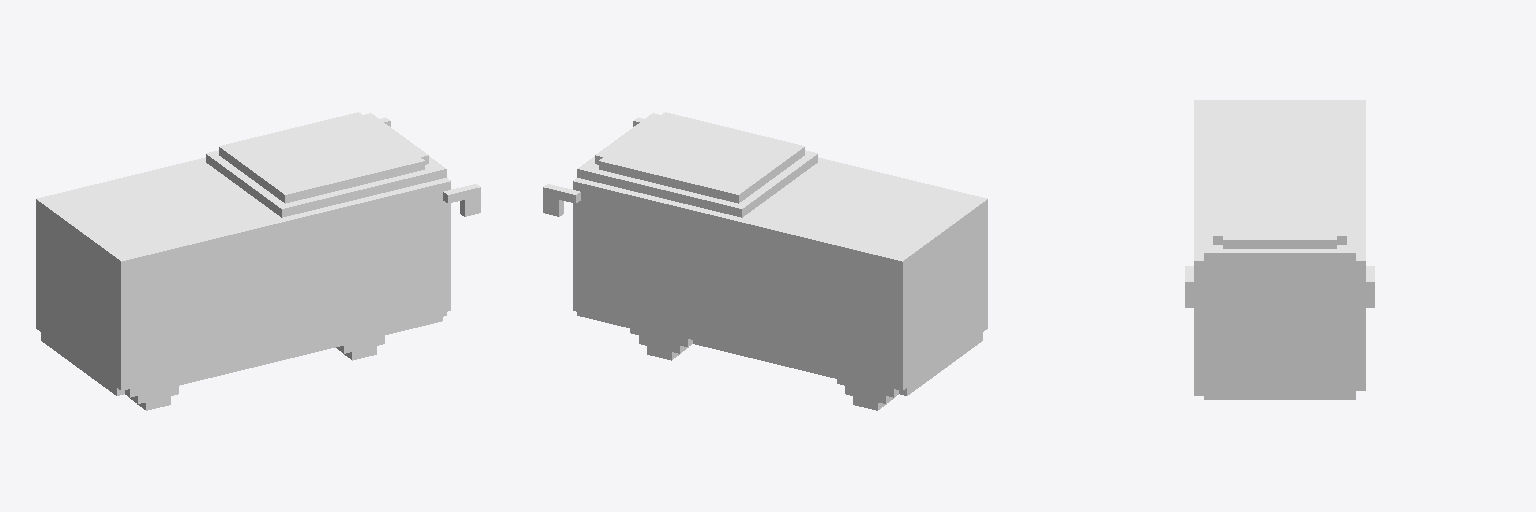
Rendered from hufs_bus_dohyun.obj.
3 views of the same model, side by side, from view 1: azimuth 30°, elevation 25°; view 2: azimuth 150°, elevation 25°; view 3: azimuth 270°, elevation 25° (orthographic).
Parts seen in each view (by area): view 1: object 1; view 2: object 1; view 3: object 1.
Boxes of the visible parts, box(x1,y1,x2,y2) form: object 1: box(36, 112, 480, 410); object 1: box(543, 112, 987, 410); object 1: box(1185, 100, 1374, 399).
Bounding box in the file's own units: 4.3 × 2 × 2.